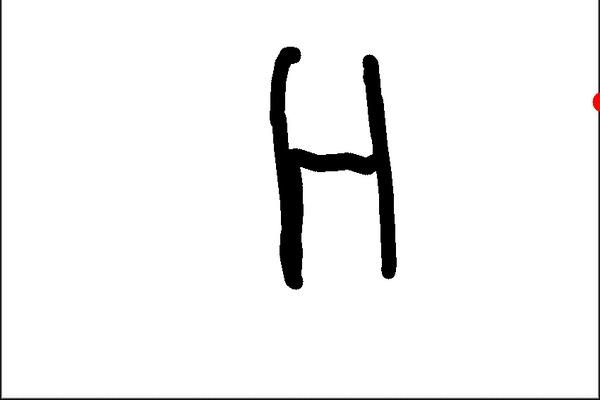H: (261, 41, 405, 297), (266, 43, 399, 290)
